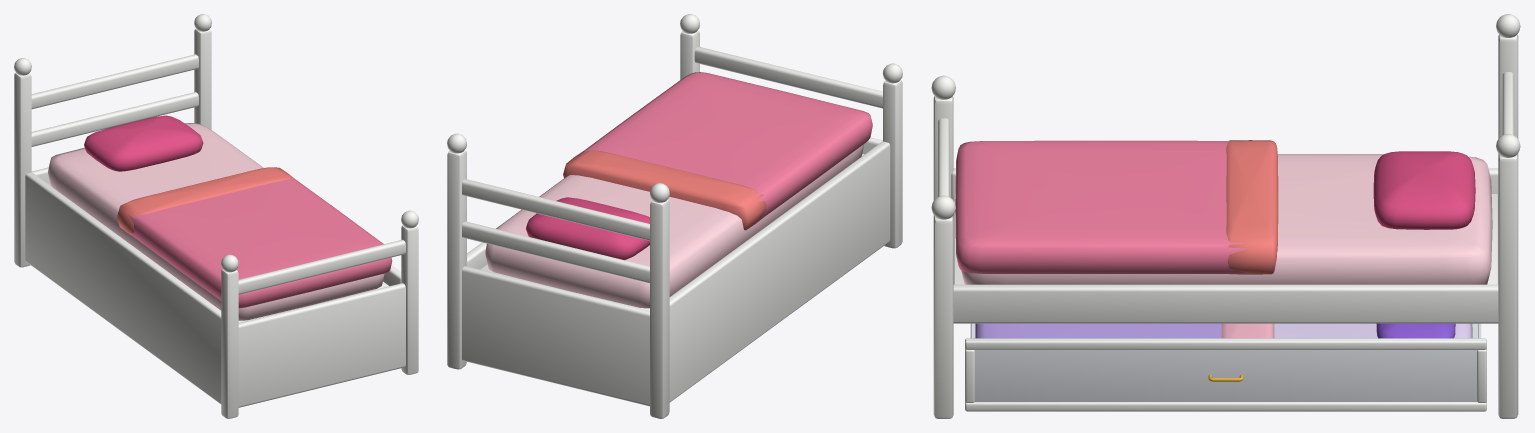
The model's file is cama_solteiro_bicama_branca.glb.
The picture shows the model from 3 angles, left to right: view 1: azimuth 30°, elevation 25°; view 2: azimuth 150°, elevation 25°; view 3: azimuth 270°, elevation 25°; orthographic projection. The views are drawn at different scales.
Visible parts, largest first — view 1: cama_solteiro_bicama_branca; view 2: cama_solteiro_bicama_branca; view 3: cama_solteiro_bicama_branca, bicama.
Part boxes in pixels (bbox=[...]): cama_solteiro_bicama_branca: bbox=[14, 14, 418, 418]; cama_solteiro_bicama_branca: bbox=[447, 14, 902, 418]; cama_solteiro_bicama_branca: bbox=[931, 14, 1520, 418]; bicama: bbox=[965, 323, 1486, 411].
Size of the model in its own units: 1.11 by 1.09 by 2.08.
1 material, 1 textured.
